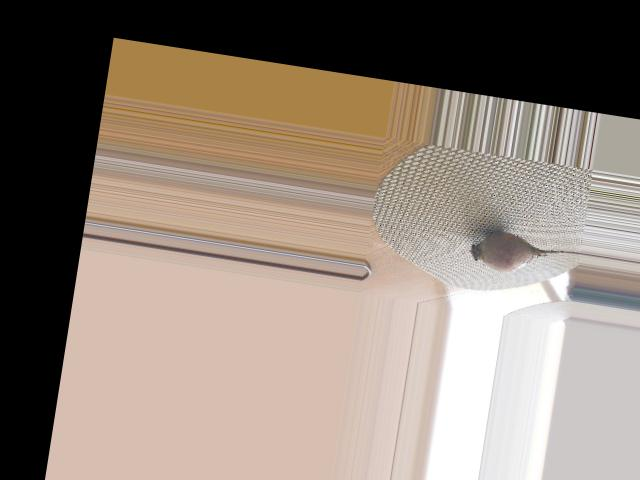beet: (467, 228, 580, 282)
